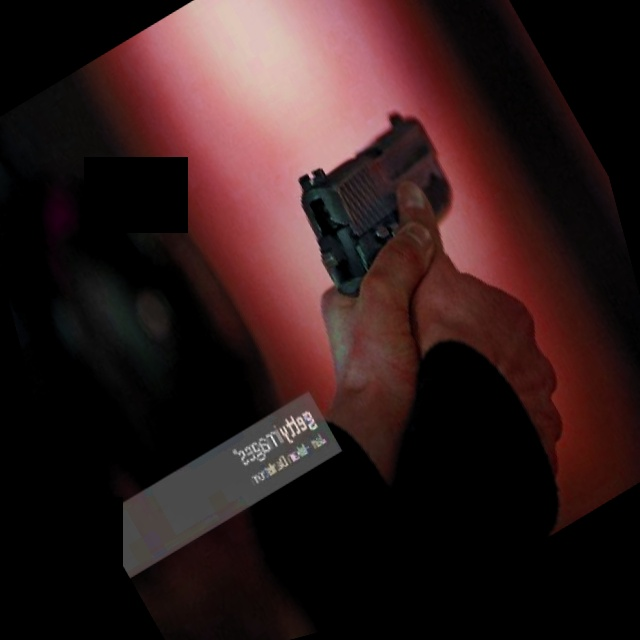gun: (262, 87, 492, 308)
